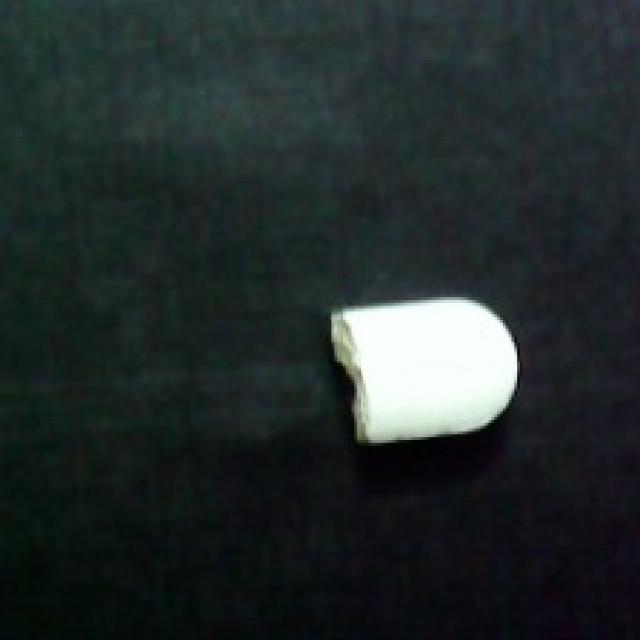defected: (325, 286, 528, 451)
